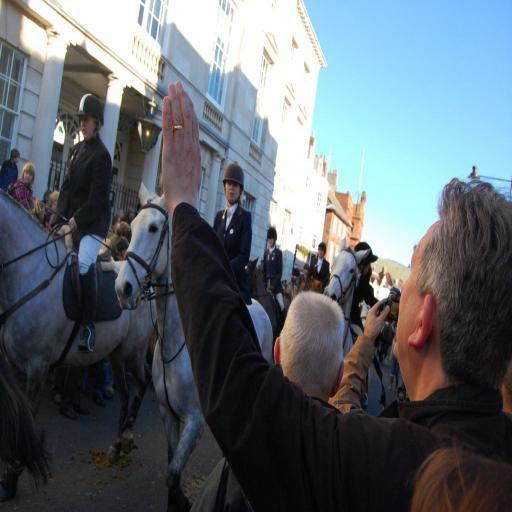Horse: (113, 178, 278, 512), (0, 188, 159, 466), (322, 236, 370, 365)
